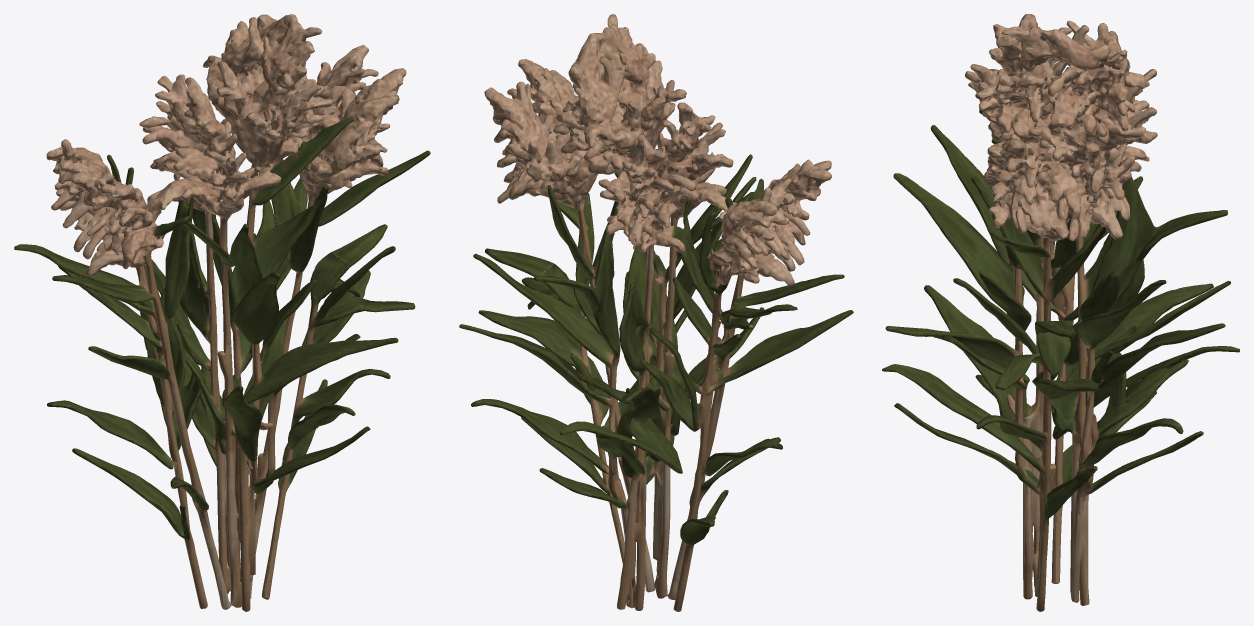
Rendered from common-reed-cluster-v21.glb.
3 renders of one model, left to right at view 1: azimuth 30°, elevation 25°; view 2: azimuth 150°, elevation 25°; view 3: azimuth 270°, elevation 25°, orthographic. The views are drawn at different scales.
Parts seen in each view (by area): view 1: geometry_0; view 2: geometry_0; view 3: geometry_0.
Part boxes in pixels (x1,y1,x2,y2): geometry_0: [14, 14, 430, 611]; geometry_0: [459, 14, 853, 611]; geometry_0: [882, 14, 1239, 611].
Size of the model in its own units: 0.7802 by 1.2 by 0.6487.
Materials: 1 (1 with a texture image).
